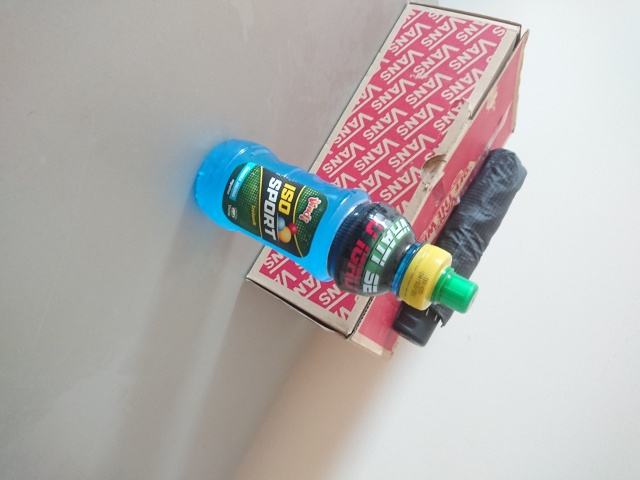Vindi Iso Sport Forest Strawberries 500mL: (191, 136, 481, 315)
